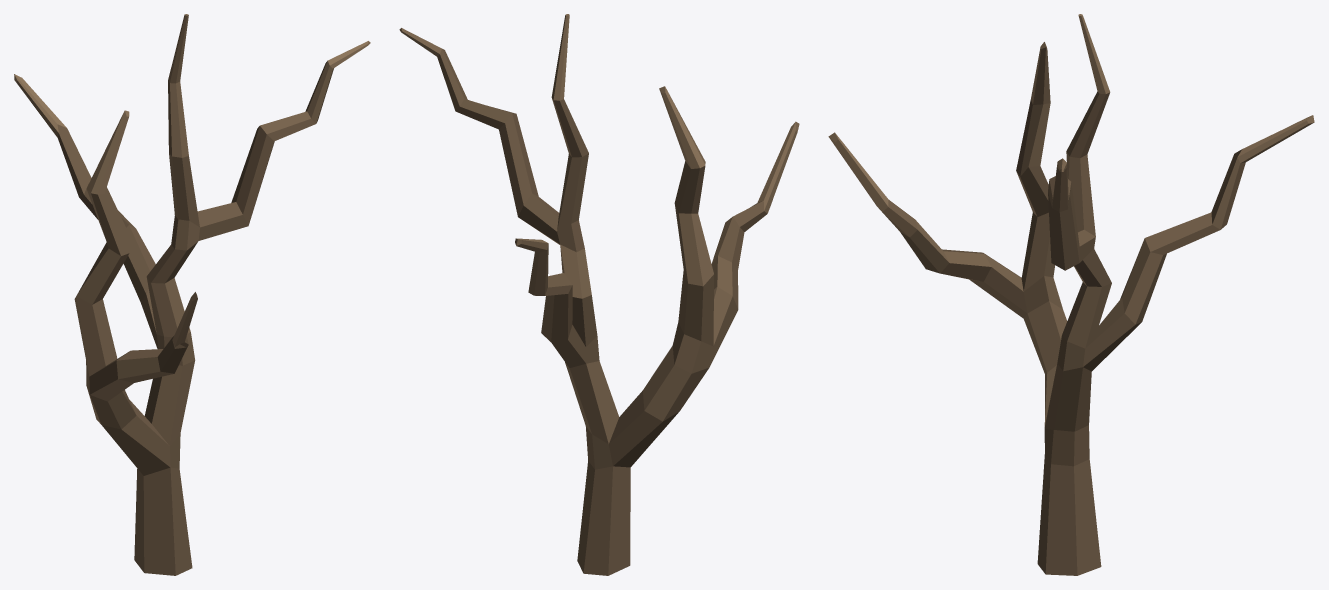
File: Tree_1.fbx
The picture shows the model from 3 angles, left to right: view 1: azimuth 30°, elevation 25°; view 2: azimuth 150°, elevation 25°; view 3: azimuth 270°, elevation 25°; orthographic projection. The views are drawn at different scales.
Visible parts, largest first — view 1: pCylinder2; view 2: pCylinder2; view 3: pCylinder2.
Part boxes in pixels (x1,y1,x2,y2): pCylinder2: (14,14,370,575); pCylinder2: (399,14,799,575); pCylinder2: (828,14,1314,575).
Size of the model in its own units: 6.61 by 11.24 by 8.77.
